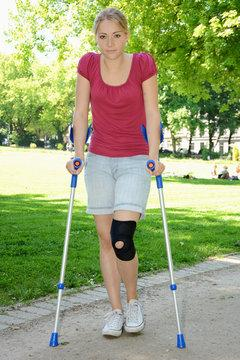crutches: (49, 8, 186, 348)
